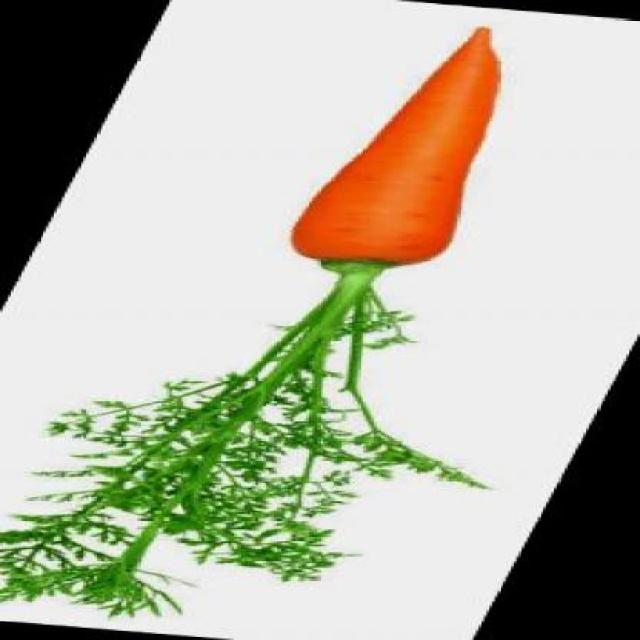carrot: (268, 19, 562, 270)
